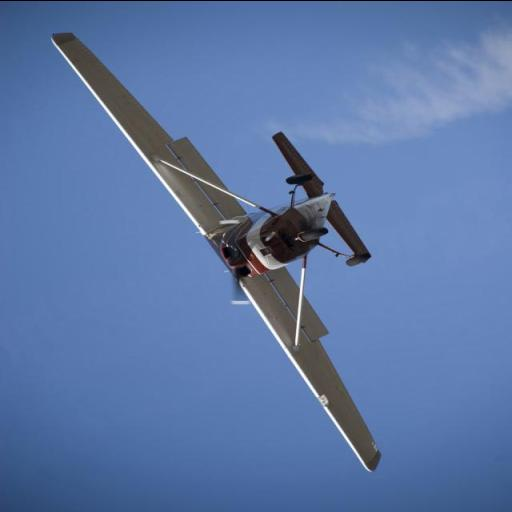uav: (40, 22, 430, 480)
